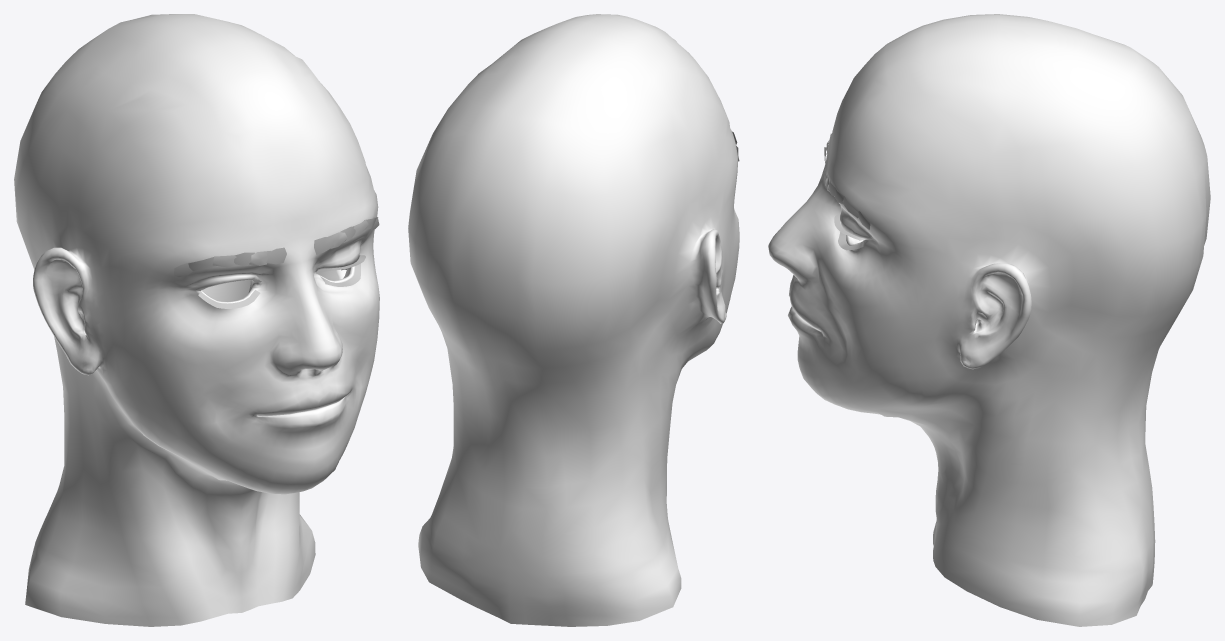
The model's file is eyeLookDownLeft.obj.
The picture shows the model from 3 angles, left to right: view 1: azimuth 30°, elevation 25°; view 2: azimuth 150°, elevation 25°; view 3: azimuth 270°, elevation 25°; orthographic projection. The views are drawn at different scales.
Parts seen in each view (by area): view 1: FaceMesh_Plane.003; view 2: FaceMesh_Plane.003; view 3: FaceMesh_Plane.003.
Part boxes in pixels (x1,y1,x2,y2): FaceMesh_Plane.003: (14, 14, 379, 626); FaceMesh_Plane.003: (408, 14, 739, 626); FaceMesh_Plane.003: (768, 14, 1210, 626).
Bounding box in the file's own units: 1.54 × 2.71 × 1.94.
Materials: 5 (1 with a texture image).
